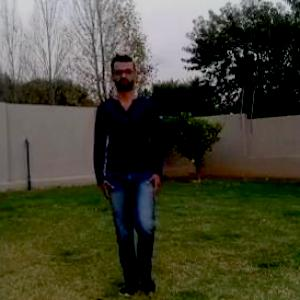follow: (107, 68, 161, 280)
